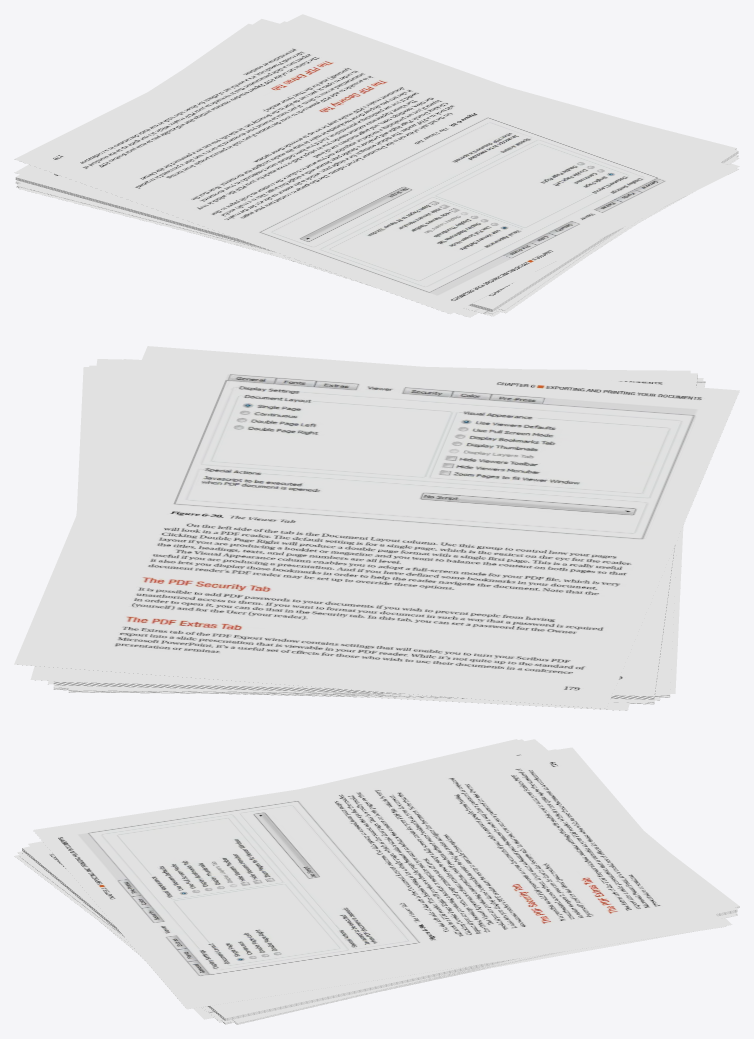
Rendered from paper-transformed.glb.
The picture shows the model from 3 angles, top to bottom: view 1: azimuth 30°, elevation 25°; view 2: azimuth 150°, elevation 25°; view 3: azimuth 270°, elevation 25°; orthographic projection. The views are drawn at different scales.
Visible parts, largest first — view 1: Plane.015; view 2: Plane.015; view 3: Plane.015.
Boxes of the visible parts, x1,y1,x2,y2 form: Plane.015: [14, 14, 739, 317]; Plane.015: [14, 346, 739, 710]; Plane.015: [14, 739, 739, 1024].
Size of the model in its own units: 3.28 by 0.034 by 3.53.
1 material, 1 textured.
